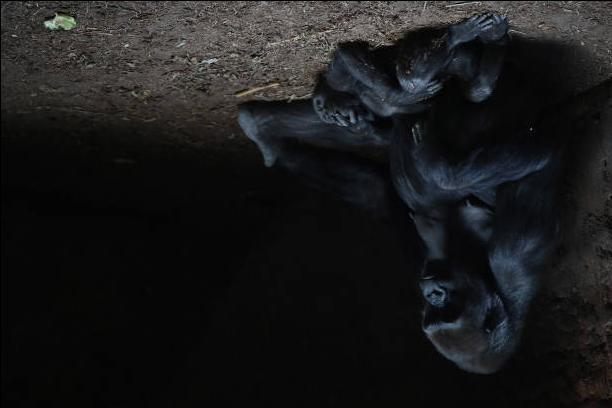gorille_Autres: (295, 39, 561, 390)
